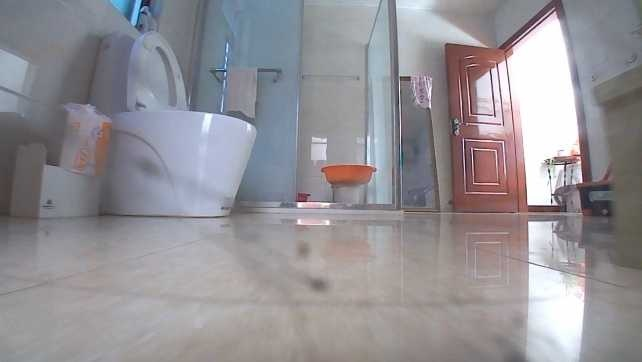door_anno: (443, 42, 530, 216)
toilet: (80, 28, 259, 222)
